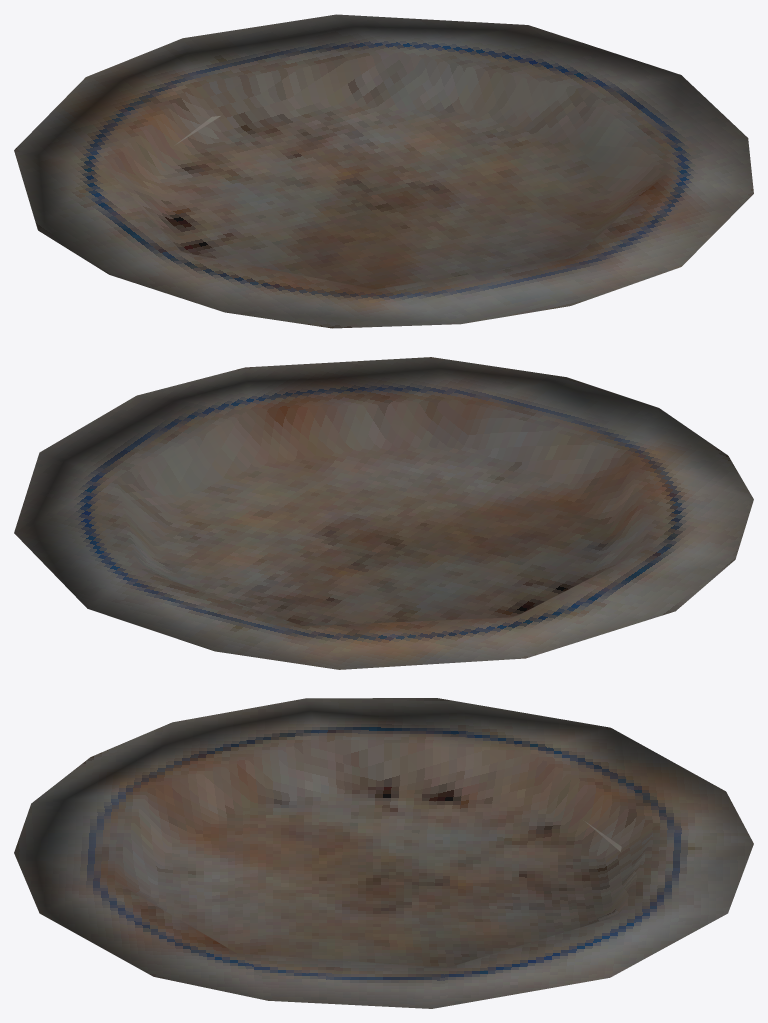
Rendered from plate_mp_1.glb.
The picture shows the model from 3 angles, top to bottom: view 1: azimuth 30°, elevation 25°; view 2: azimuth 150°, elevation 25°; view 3: azimuth 270°, elevation 25°; orthographic projection.
Visible parts, largest first — view 1: plate_mp_1; view 2: plate_mp_1; view 3: plate_mp_1.
Boxes of the visible parts, bbox=[...] form: plate_mp_1: bbox=[14, 14, 753, 328]; plate_mp_1: bbox=[14, 357, 753, 669]; plate_mp_1: bbox=[14, 698, 753, 1008].
Bounding box in the file's own units: 0.3273 × 0.0207 × 0.328.
1 material, 1 textured.
